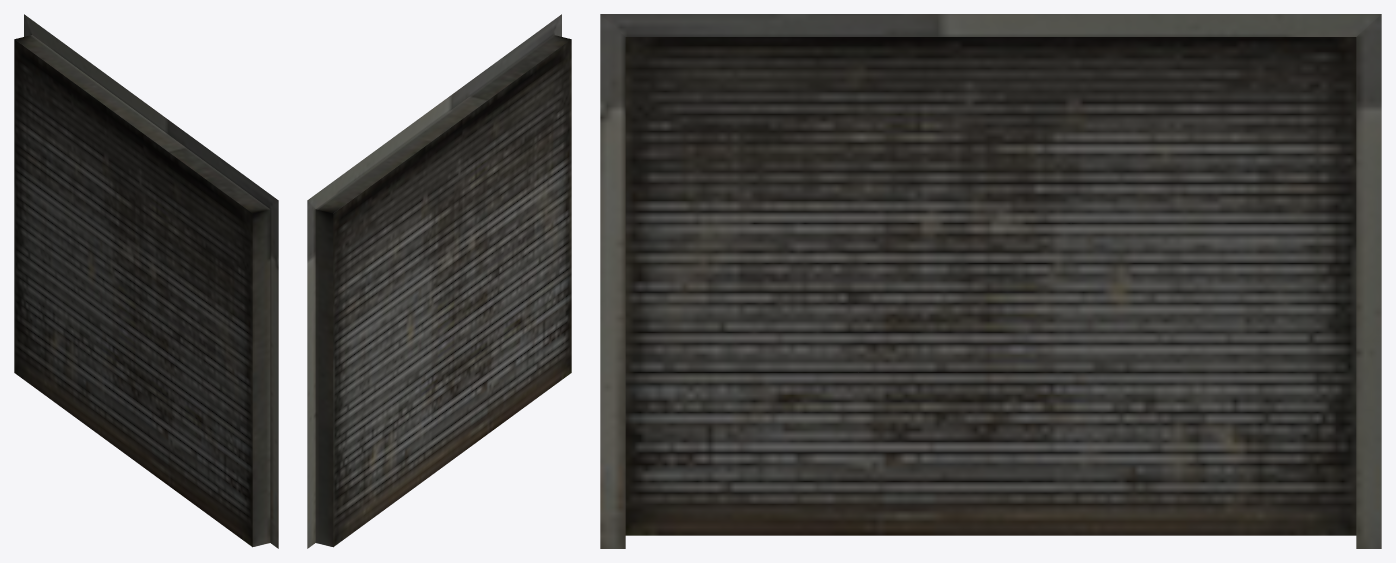
The model's file is Shutter_01.FBX.
The picture shows the model from 3 angles, left to right: view 1: azimuth 30°, elevation 25°; view 2: azimuth 150°, elevation 25°; view 3: azimuth 270°, elevation 25°; orthographic projection. The views are drawn at different scales.
Visible parts, largest first — view 1: Shutter_01; view 2: Shutter_01; view 3: Shutter_01.
Part boxes in pixels (x1,y1,x2,y2): Shutter_01: [14, 14, 278, 548]; Shutter_01: [307, 14, 571, 548]; Shutter_01: [600, 14, 1381, 548].
Bounding box in the file's own units: 18.62 × 351 × 464.
